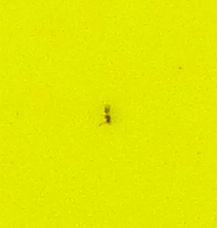Hymenoptera: (100, 100, 117, 128)
